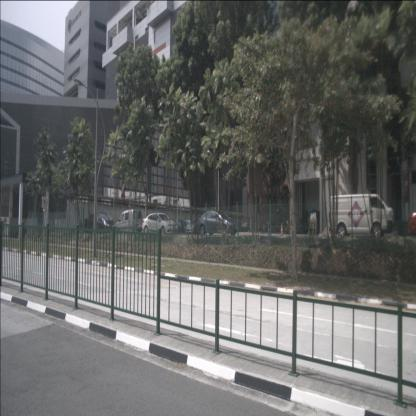movable_object-trafficcone: (280, 222, 284, 236)
vehicle-car: (329, 194, 394, 240), (192, 210, 238, 236), (142, 213, 177, 238), (114, 208, 144, 237), (83, 212, 114, 235), (185, 215, 216, 235), (165, 218, 187, 234)
